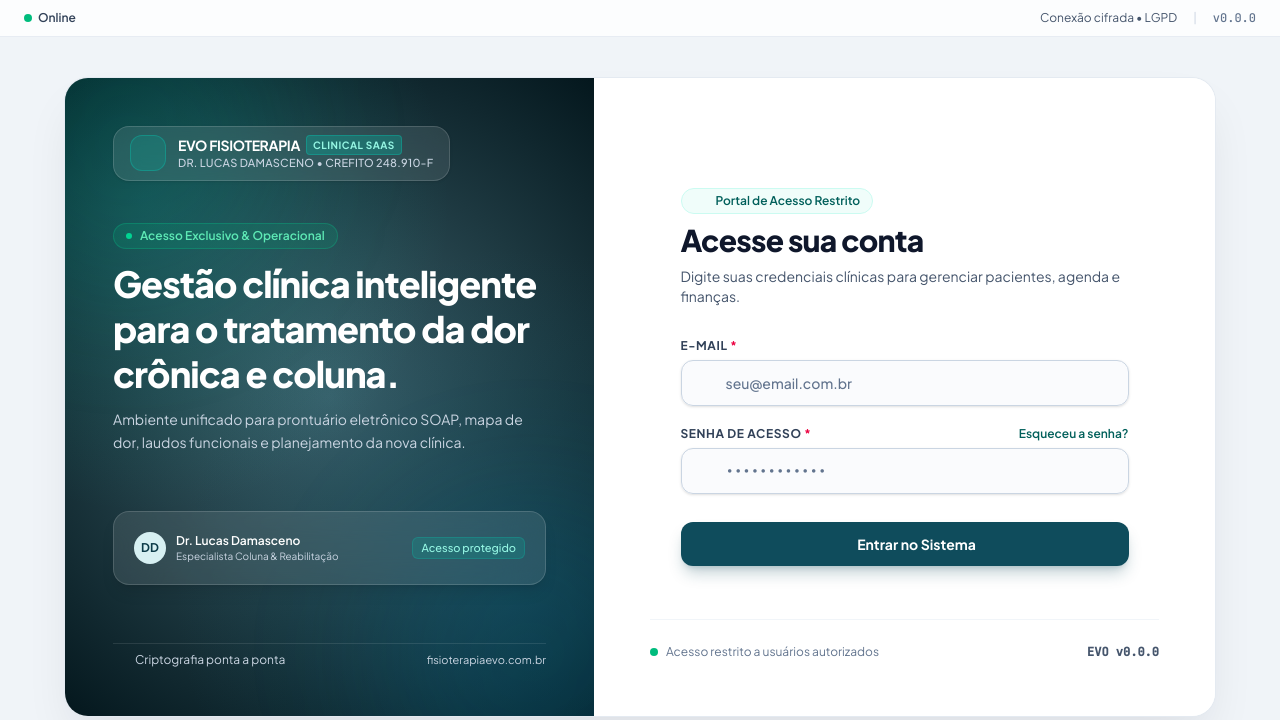
Test: LoginTela › SEM_CONEXAO sem estado bloqueado não oferece desbloqueio local
Type "lucas@clinica.com" into the field labelled "E-mail *" at (904, 382), box [680,360,1128,406]
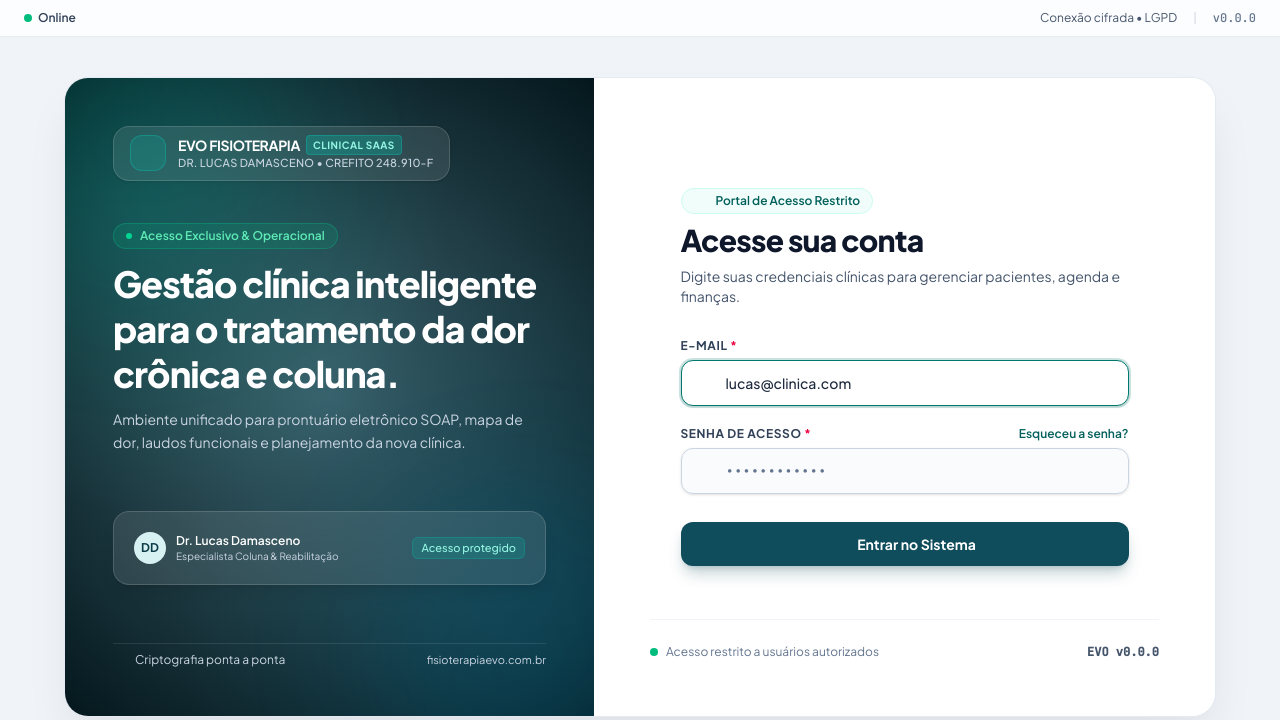
Type "senha-de-teste-forte-123" into the password field labelled "Senha de Acesso *" at (904, 470), box [680,448,1128,494]
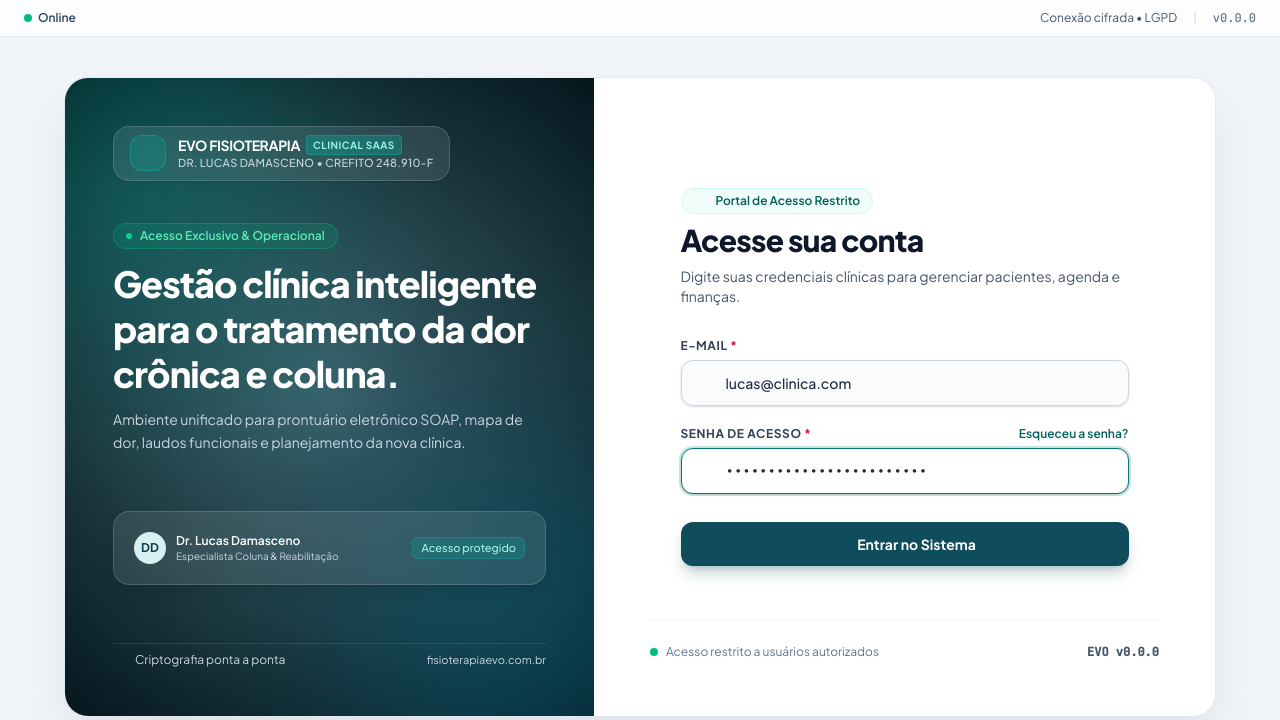
Click the button "Entrar no Sistema" at (904, 544), box [680,522,1128,566]
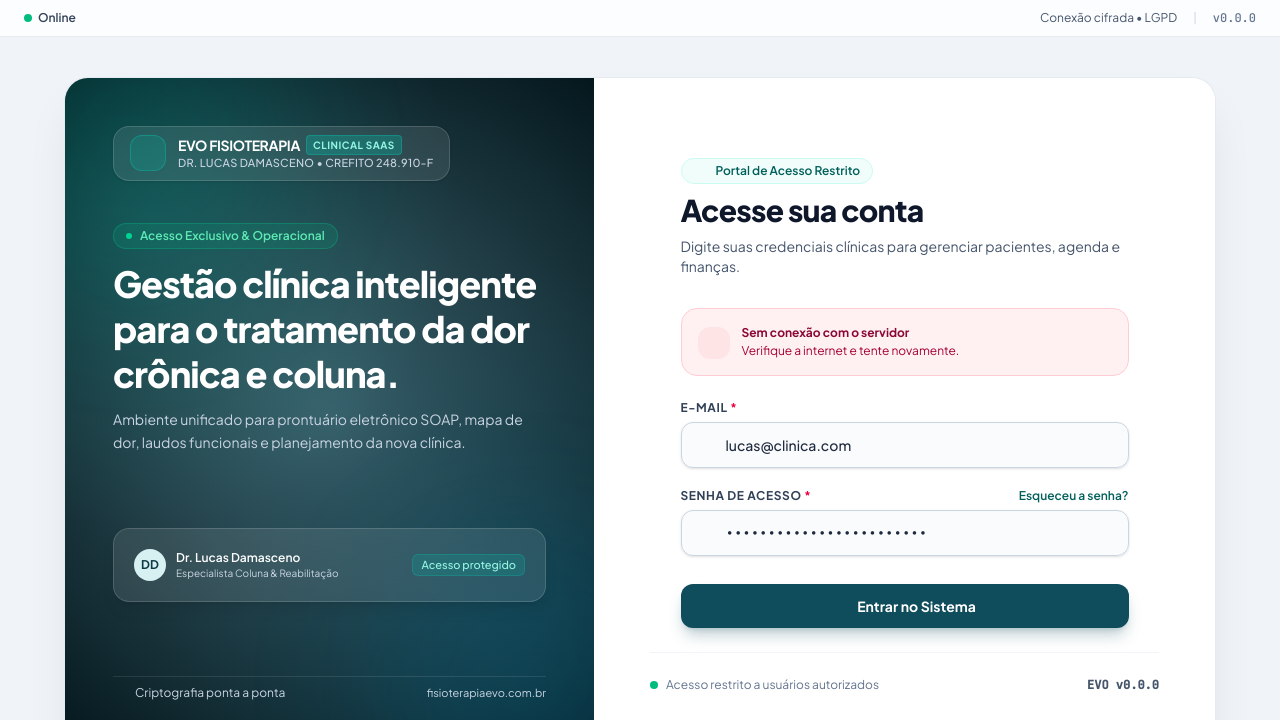
Expected: the message "Sem conexão com o servidor Verifique a internet e tente novamente." is shown, [680,308,1128,376]
